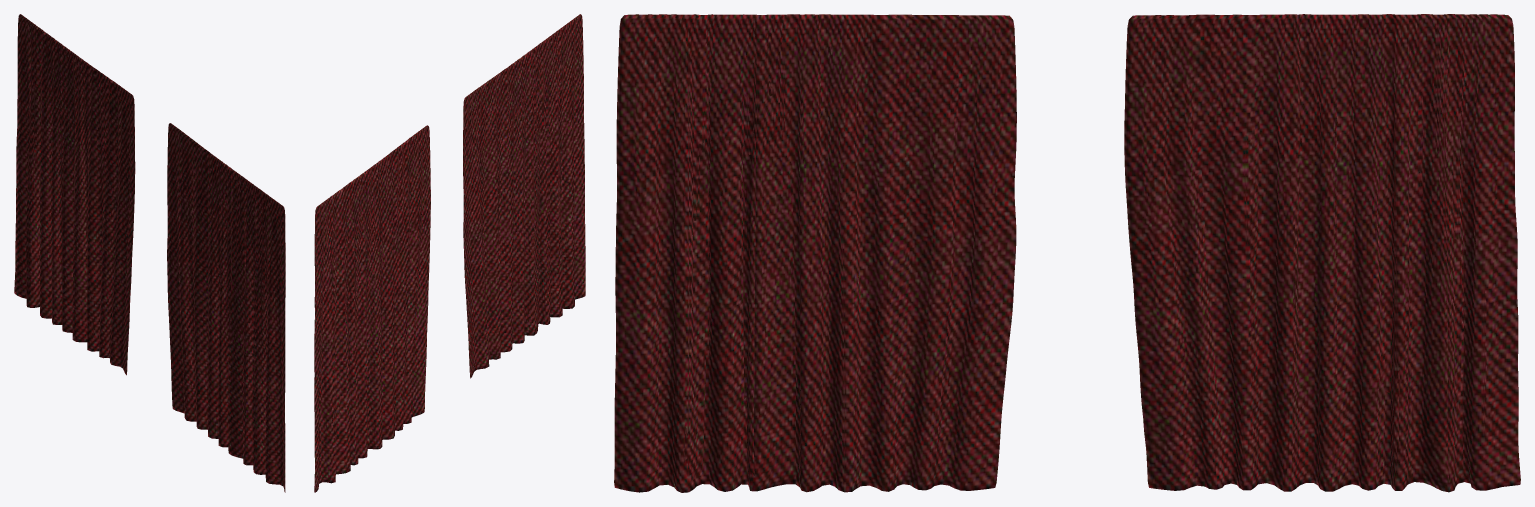
Rendered from Cortinas_Abiertas.fbx.
3 renders of one model, left to right at view 1: azimuth 30°, elevation 25°; view 2: azimuth 150°, elevation 25°; view 3: azimuth 270°, elevation 25°, orthographic. The views are drawn at different scales.
Parts seen in each view (by area): view 1: Plane.002, Plane.003; view 2: Plane.002, Plane.003; view 3: Plane.002, Plane.003.
Part boxes in pixels (x1,y1,x2,y2): Plane.002: [167, 123, 285, 492]; Plane.003: [14, 14, 135, 375]; Plane.002: [463, 14, 585, 378]; Plane.003: [314, 125, 430, 492]; Plane.002: [614, 14, 1016, 492]; Plane.003: [1124, 14, 1520, 492].
Size of the model in its own units: 28.14 by 592 by 1022.
1 material, 1 textured.
